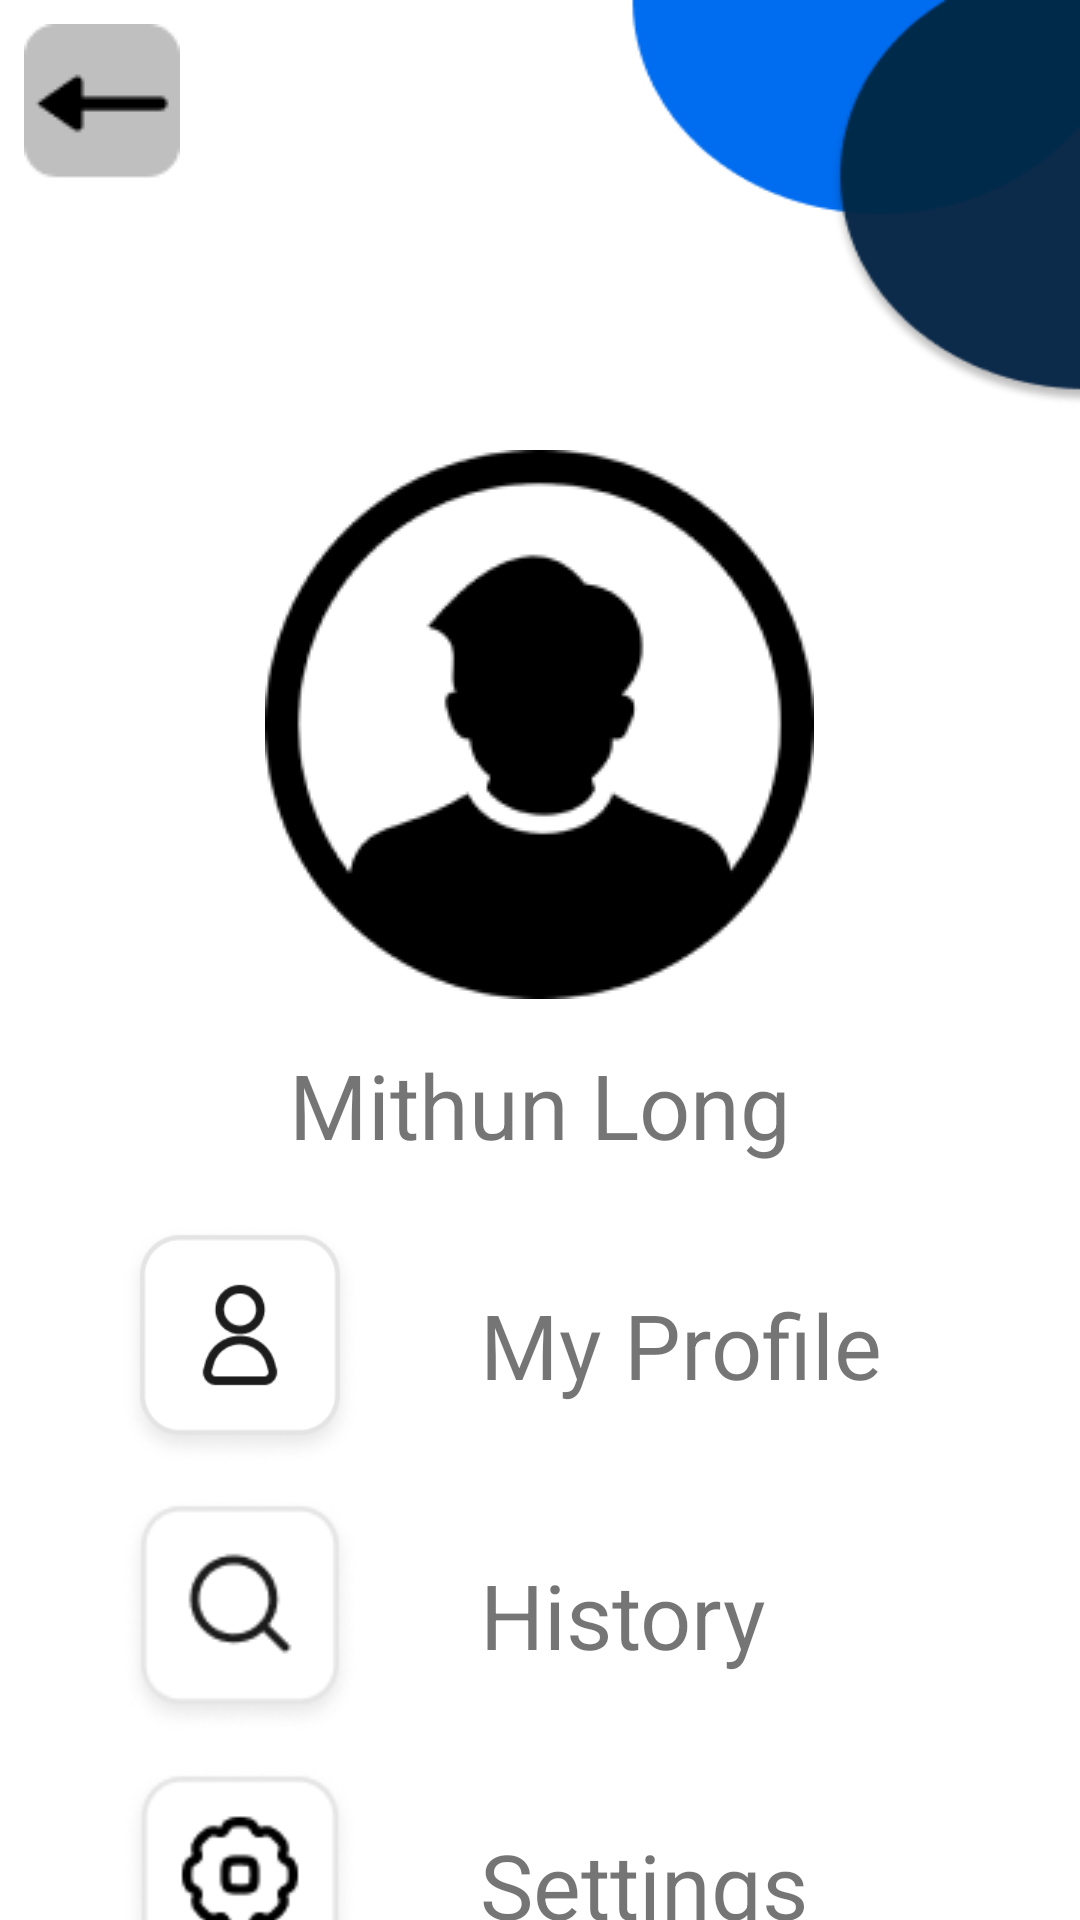

Icons on this 1080*1920 Android screen, each with the point to tap as [x,y]:
backbutton: [102,100]
magnifying glass: [240,1605]
